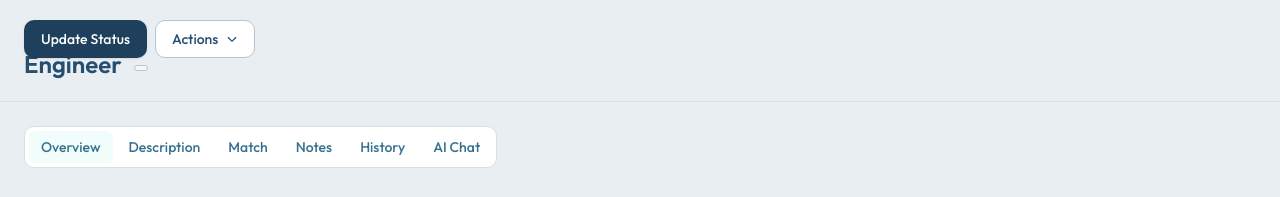
Test case: JobDetailsLayout › shows Update Status as a primary header action
The image size is (1280, 197).
Step 1. Click the button "Update Status" → x=86, y=39, box [24,20,147,58]
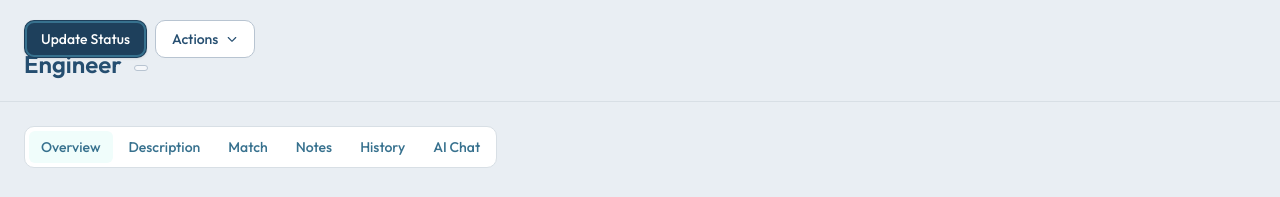
Step 2. Click the button "Actions" → x=205, y=39, box [155,20,255,58]
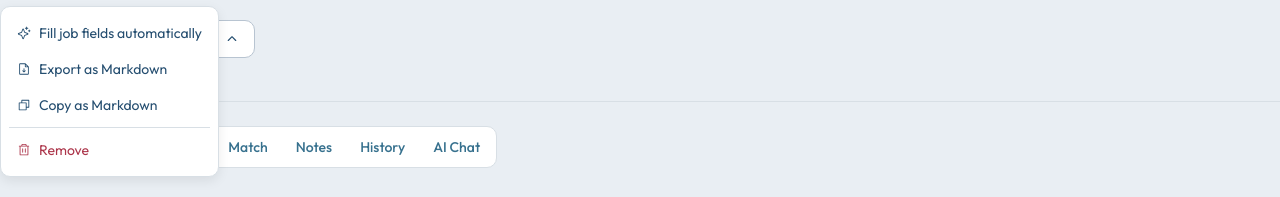
Expected: the menu item "Fill job fields automatically" is shown, [17,24,202,42]
Expected: the menu item "Remove" is shown, [17,141,89,159]
